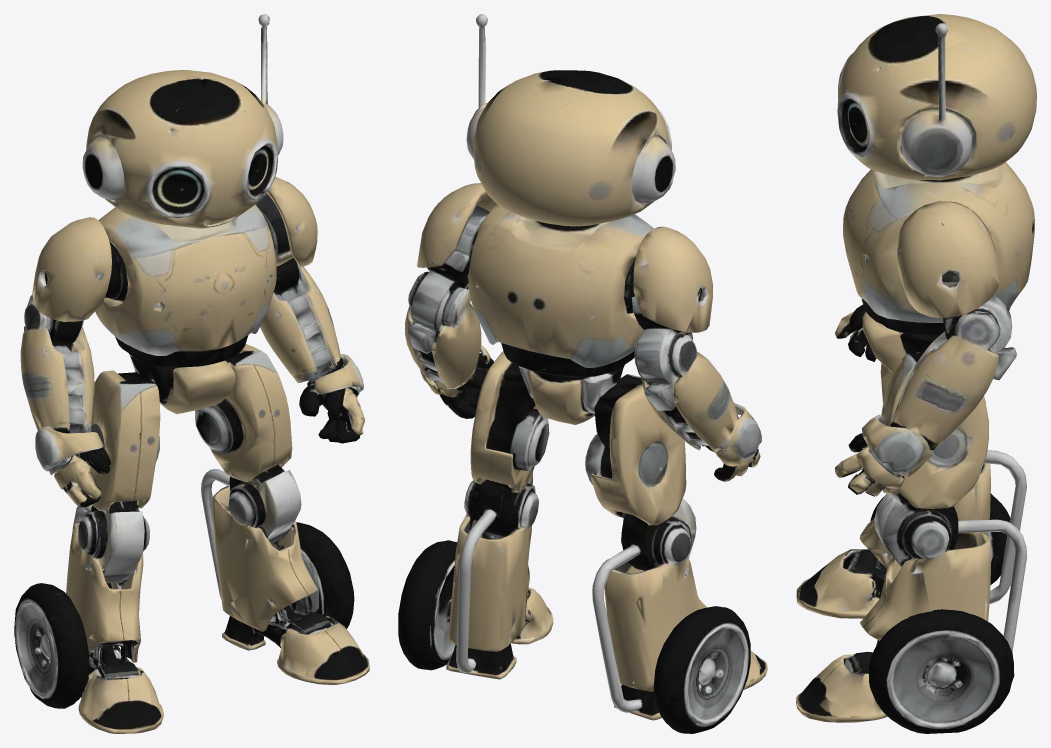
The model's file is ur_changer_robot.glb.
The picture shows the model from 3 angles, left to right: view 1: azimuth 30°, elevation 25°; view 2: azimuth 150°, elevation 25°; view 3: azimuth 270°, elevation 25°; orthographic projection. The views are drawn at different scales.
Bounding box in the file's own units: 0.9974 × 1.9 × 0.6089.
Materials: 1 (1 with a texture image).
